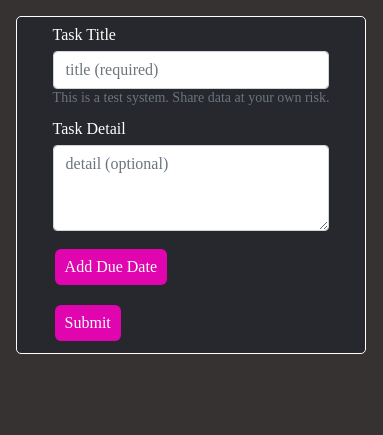
Test: Empty form renders correctly › Form saves correctly as expected
Type "This is a title" into the field with test id "title".
click(191, 70); type("This is a title")  # box x1=53 y1=51 x2=329 y2=89
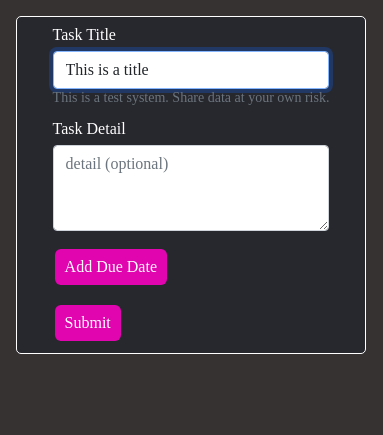
Type "detail has been added" into the text box with test id "detail".
click(191, 188); type("detail has been added")  # box x1=53 y1=145 x2=329 y2=231
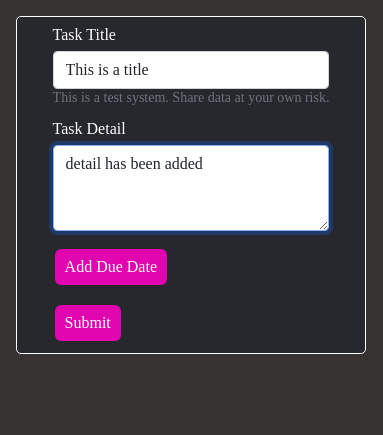
Click the button with test id "addDueDate".
click(111, 267)  # box x1=55 y1=249 x2=167 y2=285
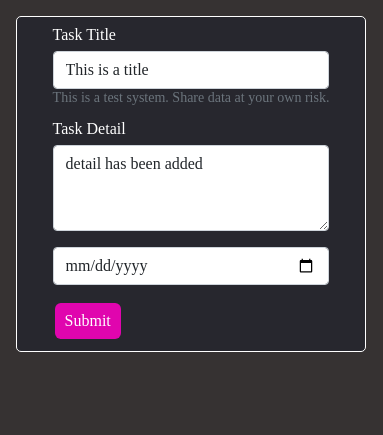
expect the date field with test id "dueDate" is shown: met
Type "2010-10-10" into the date field with test id "dueDate".
click(191, 266); type("2010-10-10")  # box x1=53 y1=247 x2=329 y2=285
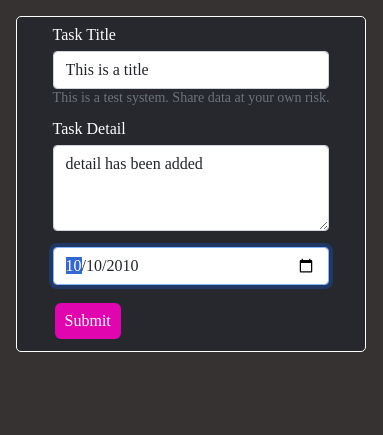
Click the button with test id "submitNewToDoButton".
click(88, 321)  # box x1=55 y1=303 x2=121 y2=339
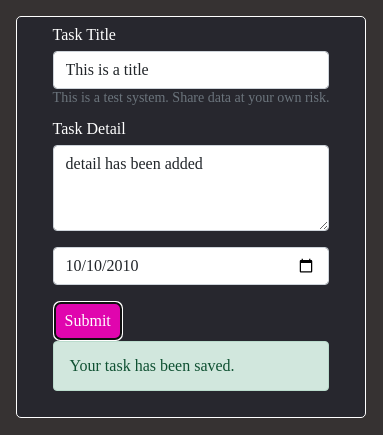
expect the message "Your task has been saved." is shown: met, box x1=53 y1=341 x2=329 y2=391
Click the button with test id "submitNewToDoButton".
click(88, 321)  # box x1=55 y1=303 x2=121 y2=339
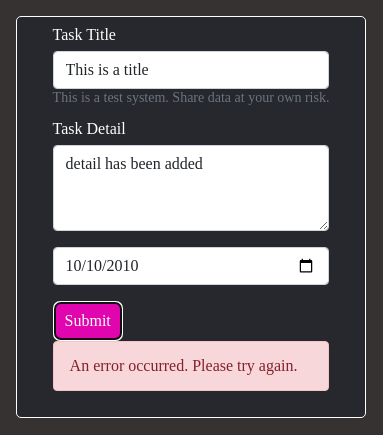
expect the message "An error occurred. Please try again." is shown: met, box x1=53 y1=341 x2=329 y2=391
